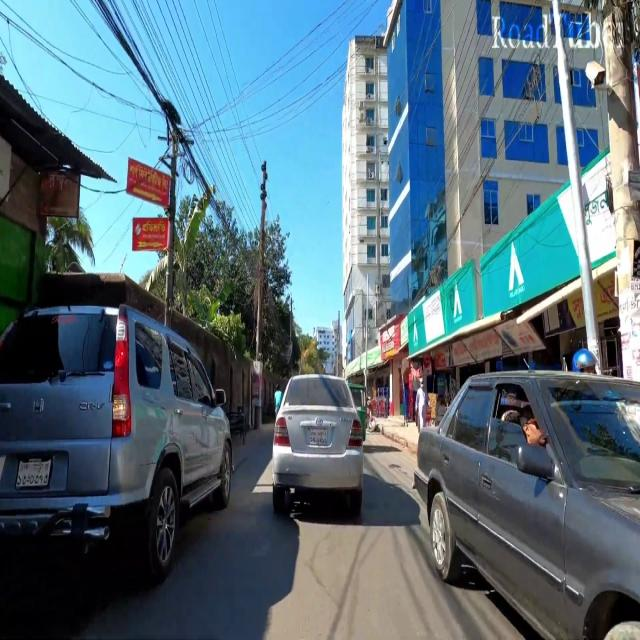black: (416, 355, 640, 640)
silver: (0, 295, 236, 587)
white: (272, 366, 367, 528)
